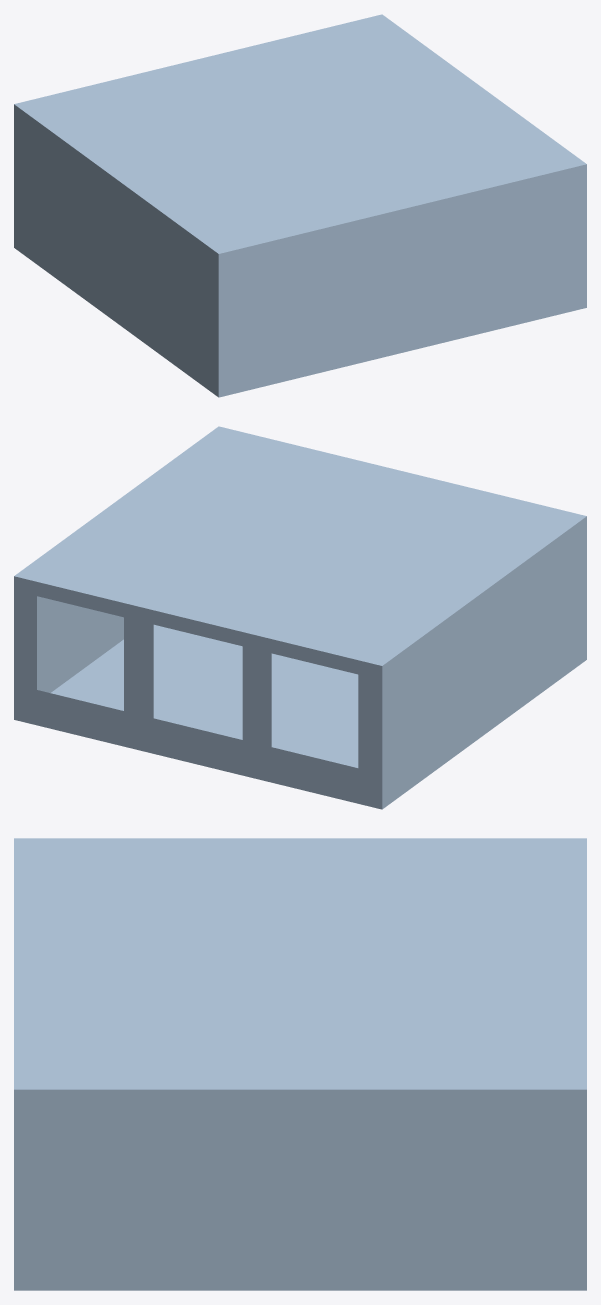
Rendered from OutWall.fbx.
3 views of the same model, one above another, from view 1: azimuth 30°, elevation 25°; view 2: azimuth 150°, elevation 25°; view 3: azimuth 270°, elevation 25° (orthographic). The views are drawn at different scales.
Parts seen in each view (by area): view 1: OuterWall; view 2: OuterWall; view 3: OuterWall.
Boxes of the visible parts, x1,y1,x2,y2 form: OuterWall: (14, 14, 586, 397); OuterWall: (14, 426, 586, 809); OuterWall: (14, 838, 586, 1290).
Bounding box in the file's own units: 13.39 × 4.99 × 12.9.
